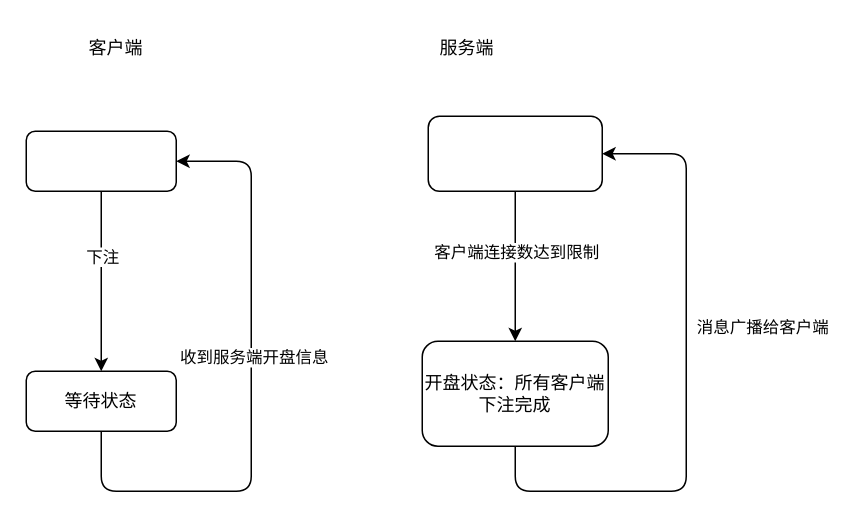
The diagram is 854 pixels wide and 530 high, and some of its shapes have lost their labels. The shapes that lost their labels are listed below. From the top down, each one's box as (x1, y1, x2, y2) in pixels, then its label:
(25, 130, 176, 191): 初始状态
(427, 115, 602, 191): 准备状态：等待所有客户端连接下注 clientNum
